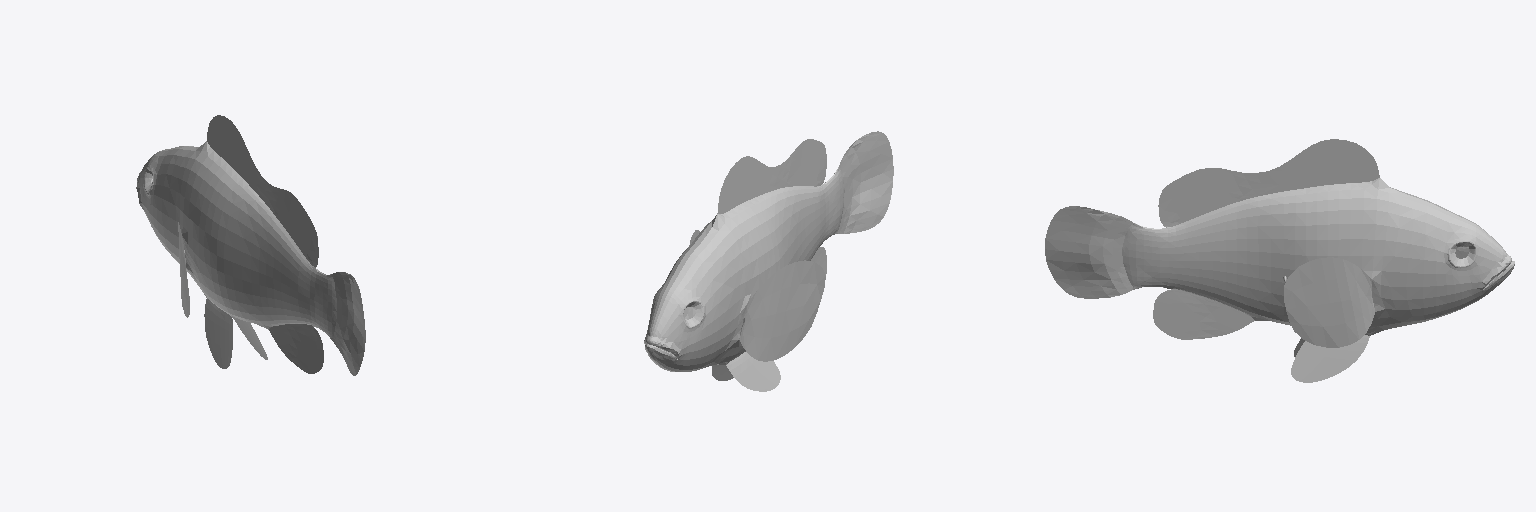
Rendered from Clown Fish.obj.
3 renders of one model, left to right at view 1: azimuth 30°, elevation 25°; view 2: azimuth 150°, elevation 25°; view 3: azimuth 270°, elevation 25°, orthographic.
Parts seen in each view (by area): view 1: Circle_0; view 2: Circle_0; view 3: Circle_0.
Part boxes in pixels (bbox=[...]): Circle_0: bbox=[136, 115, 365, 375]; Circle_0: bbox=[644, 131, 893, 391]; Circle_0: bbox=[1045, 139, 1514, 382].
Bounding box in the file's own units: 2.42 × 4.22 × 7.71.